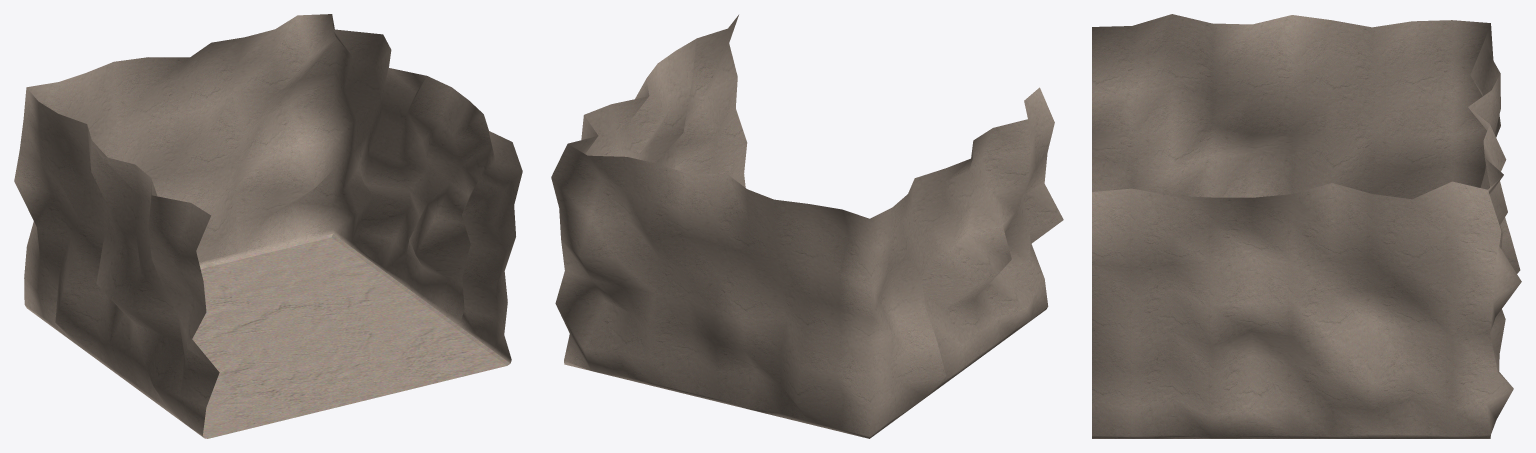
Rendered from tunnel.glb.
3 views of the same model, side by side, from view 1: azimuth 30°, elevation 25°; view 2: azimuth 150°, elevation 25°; view 3: azimuth 270°, elevation 25° (orthographic). The views are drawn at different scales.
Visible parts, largest first — view 1: Plane; view 2: Plane; view 3: Plane.
Boxes of the visible parts, x1=… form: Plane: x1=14, y1=14, x2=522, y2=438; Plane: x1=551, y1=15, x2=1063, y2=438; Plane: x1=1092, y1=14, x2=1521, y2=438.
Size of the model in its own units: 22.99 by 13.77 by 21.47.
Materials: 1 (1 with a texture image).
